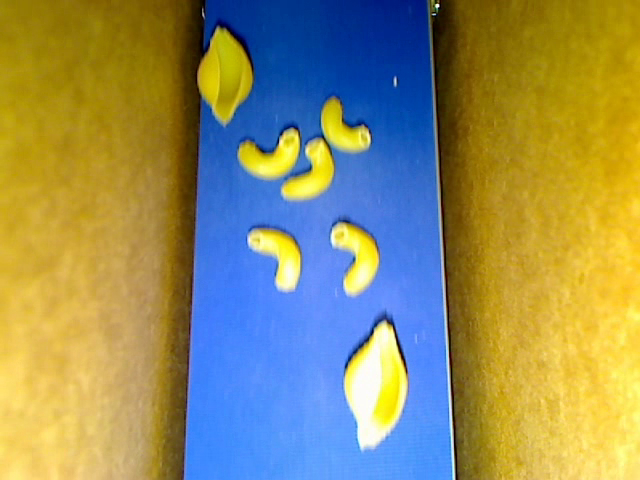elbow: (330, 220, 380, 296), (247, 227, 301, 293), (281, 137, 334, 203), (237, 127, 300, 182), (320, 96, 371, 152)
shell: (342, 319, 408, 450), (196, 26, 253, 126)
